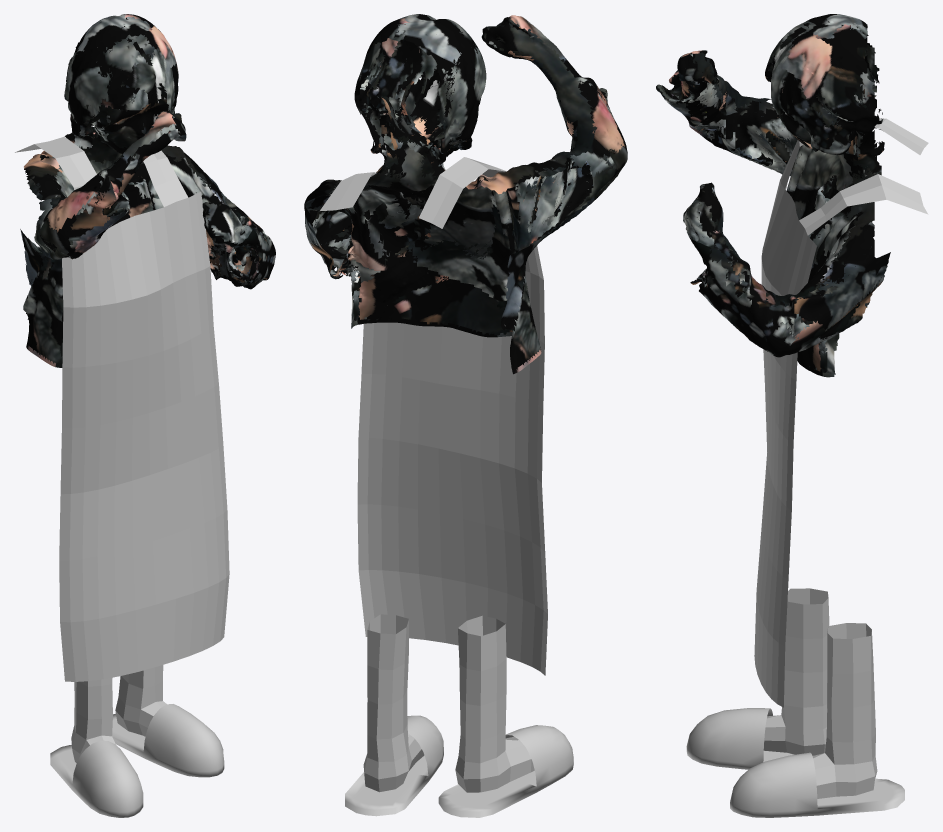
The model's file is mother@walk.fbx.
3 views of the same model, side by side, from view 1: azimuth 30°, elevation 25°; view 2: azimuth 150°, elevation 25°; view 3: azimuth 270°, elevation 25° (orthographic). The views are drawn at different scales.
Parts seen in each view (by area): view 1: obj0.001, Model, Cube, Cube.001; view 2: obj0.001, Model, Cube.001, Cube; view 3: Model, obj0.001, Cube, Cube.001.
Boxes of the visible parts, x1,y1,x2,y2 form: obj0.001: [15, 136, 229, 681]; Model: [20, 14, 275, 367]; Cube: [112, 665, 224, 777]; Cube.001: [50, 677, 143, 817]; obj0.001: [320, 157, 547, 675]; Model: [304, 14, 627, 374]; Cube.001: [438, 615, 573, 817]; Cube: [345, 614, 443, 816]; Model: [656, 14, 890, 377]; obj0.001: [754, 118, 928, 707]; Cube: [730, 623, 904, 817]; Cube.001: [686, 588, 829, 769].
Size of the model in its own units: 132 by 358 by 116.
